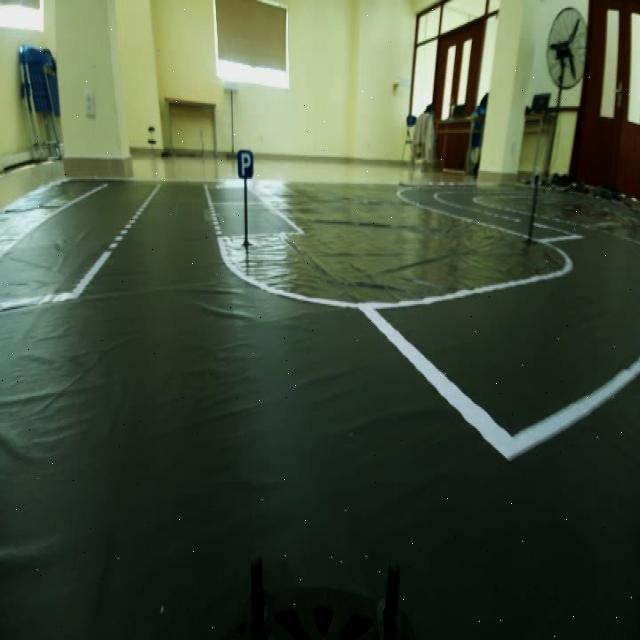parking: (234, 142, 260, 191)
